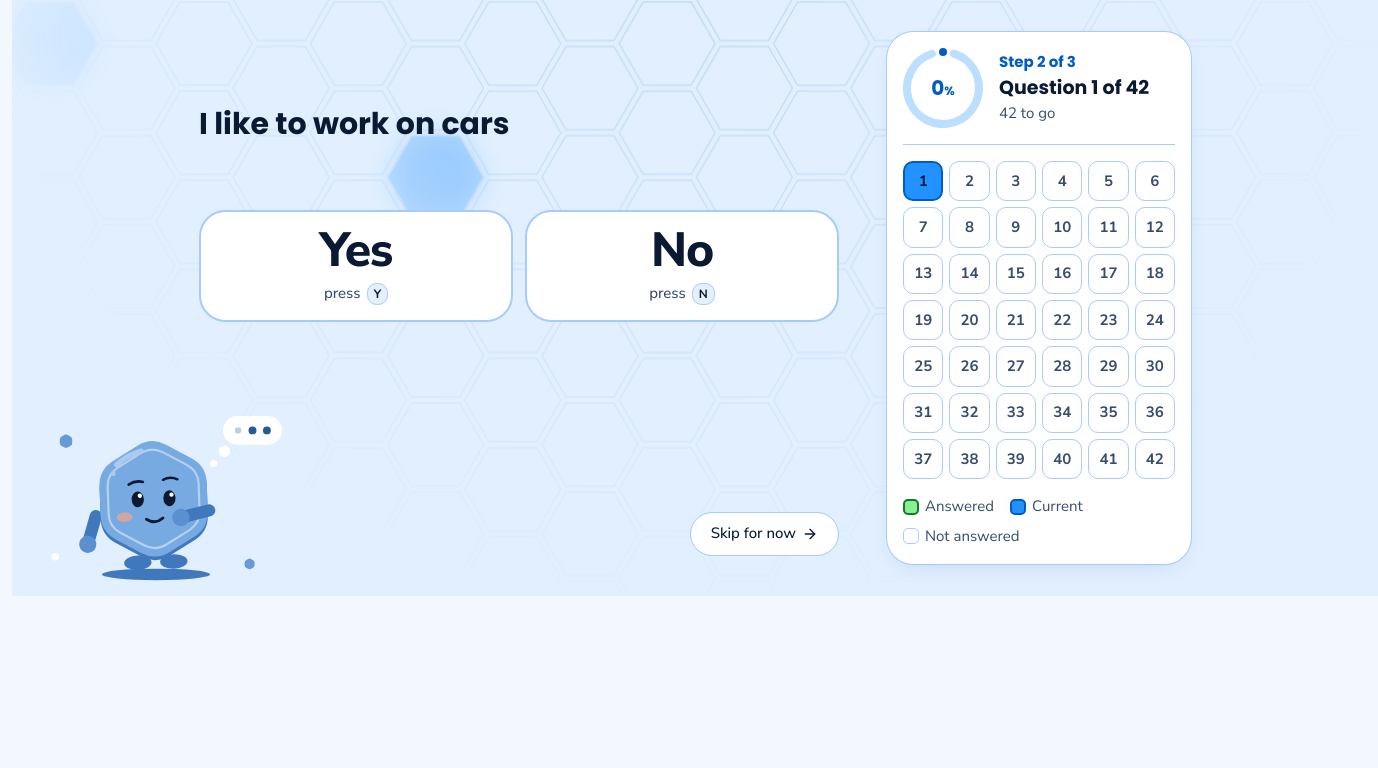
Test: AssessmentRunner question navigator › lists every statement and jumps straight to the one chosen
What coordinates should you click on to do the following:
click the button "10"
I would click on:
 (1062, 227)
Its box is [1042,207,1082,248].
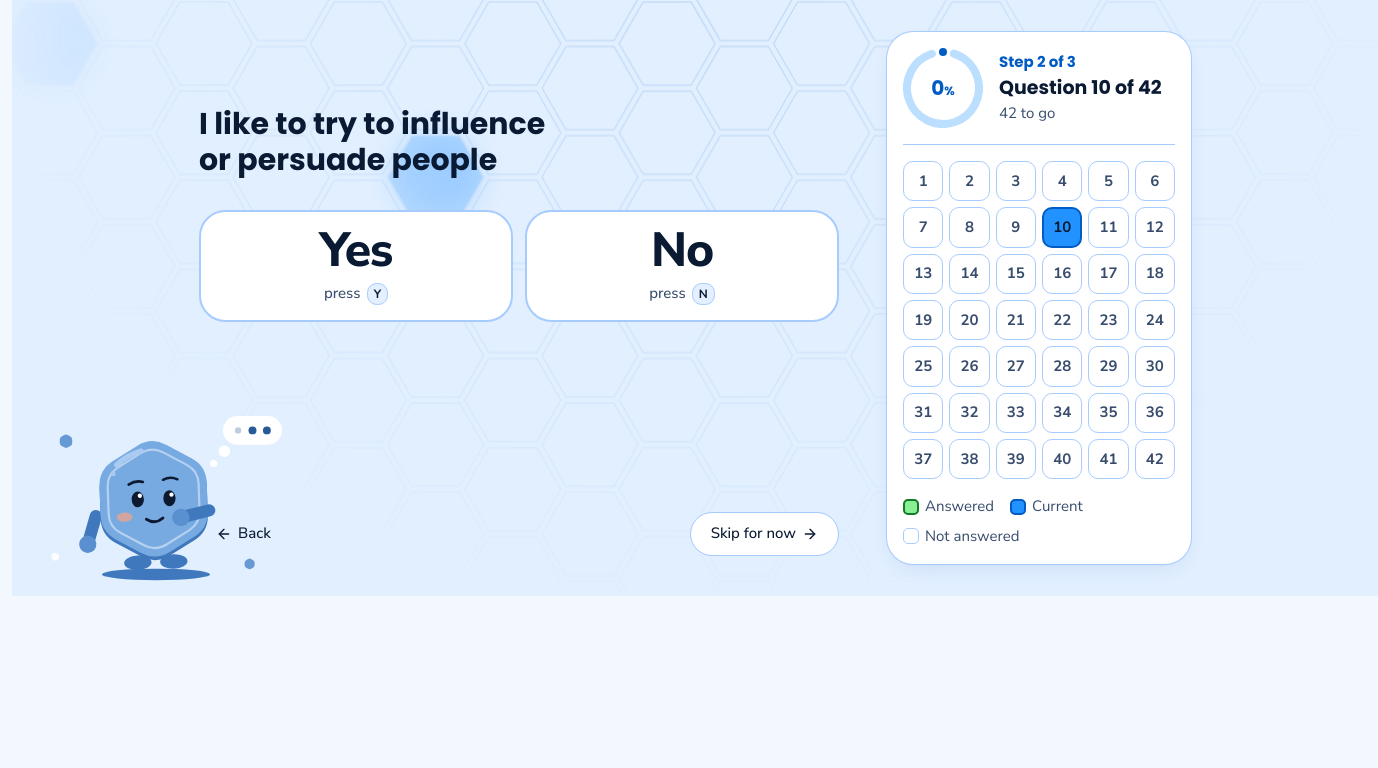
Check: the heading "I like to try to influence or persuade people" is shown, box [199,103,545,181]
